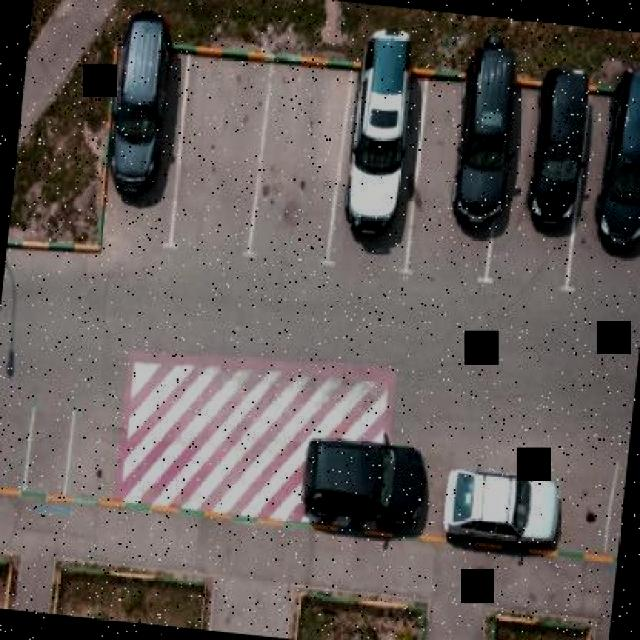car: (344, 36, 430, 250), (107, 25, 181, 204), (434, 54, 511, 222), (450, 456, 564, 558), (306, 440, 426, 522), (592, 89, 640, 249), (529, 82, 589, 205)
free: (268, 66, 338, 239), (188, 62, 260, 218), (77, 412, 120, 490), (0, 412, 15, 478)
